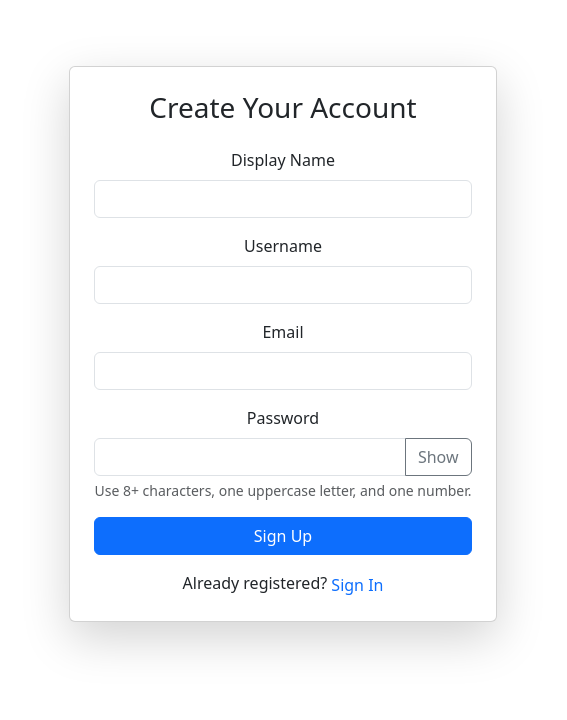
Test: shows error for weak password
Type "John Doe" into the field labelled "Display Name". click: (283, 199)
box: [94,180,472,218]
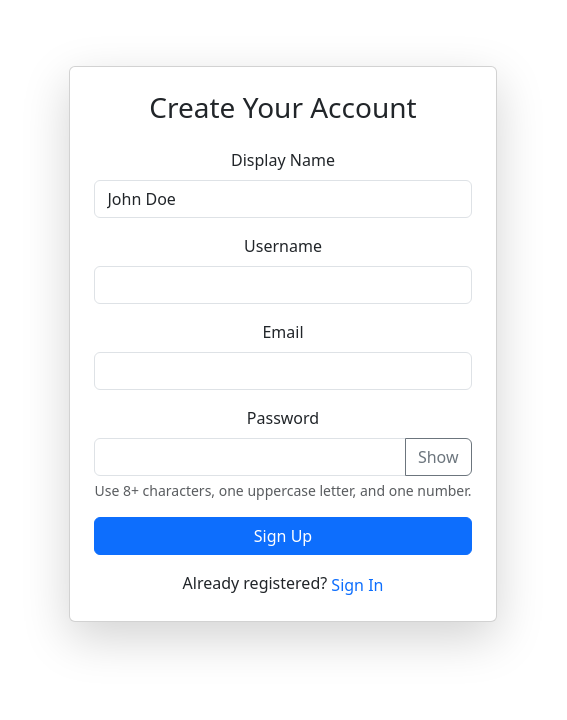
Type "johndoe" into the field labelled "Username". click: (283, 285)
box: [94,266,472,304]
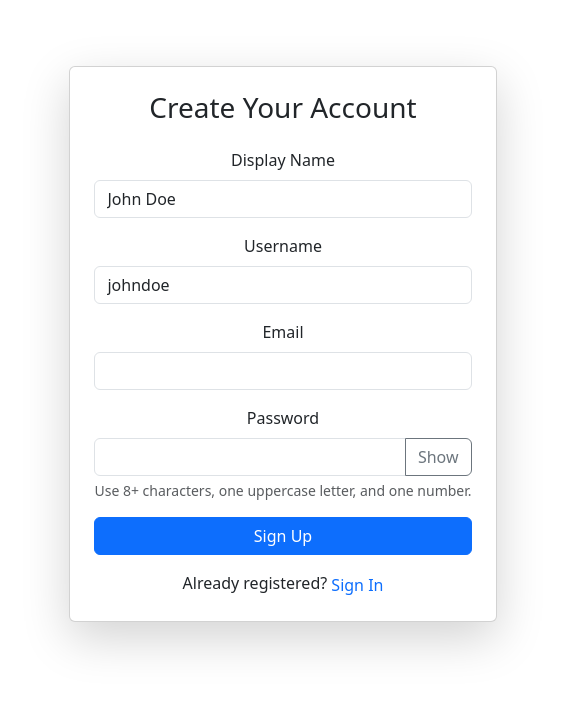
Type "john@example.com" into the field labelled "Email". click: (283, 371)
box: [94,352,472,390]
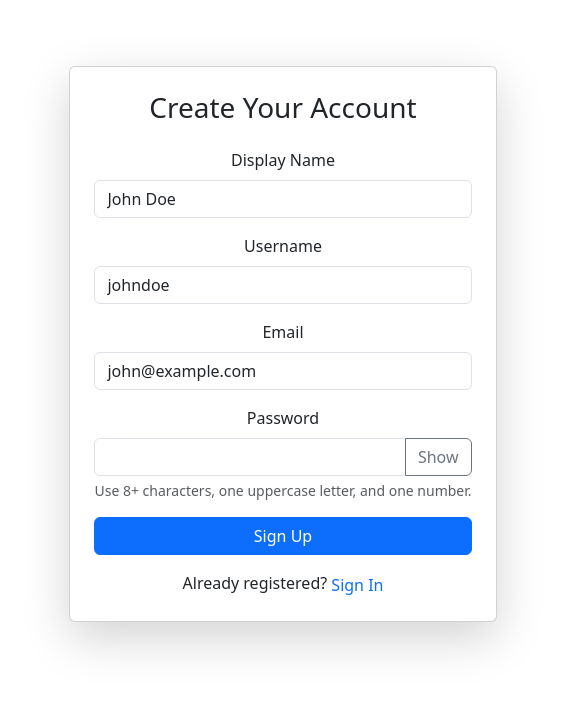
Type "weak" into the password field labelled "Password". click: (250, 457)
box: [94,438,406,476]
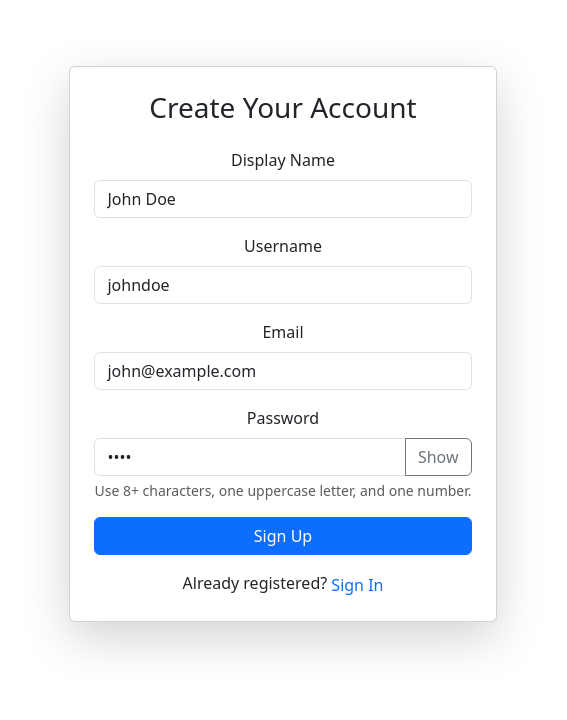
Click the button "Sign Up". click: (283, 536)
box: [94,517,472,555]
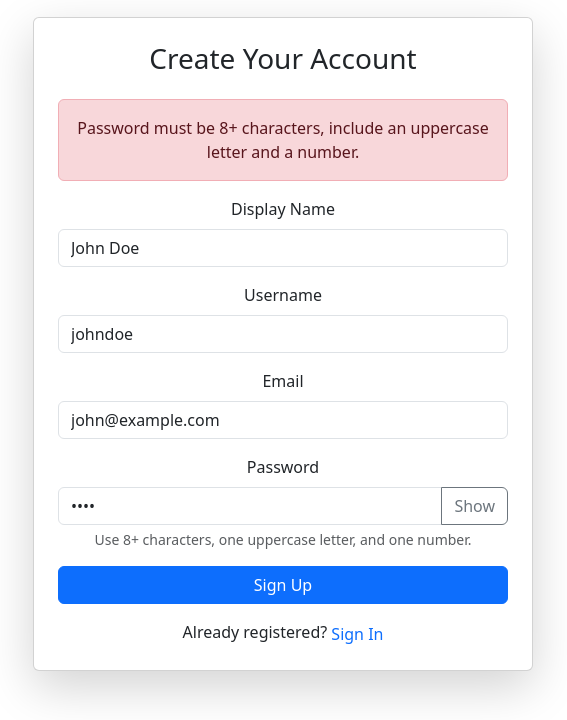
Expected: the text "Password must be 8+ characters, include an uppercase" is shown, [77,117,489,163]
